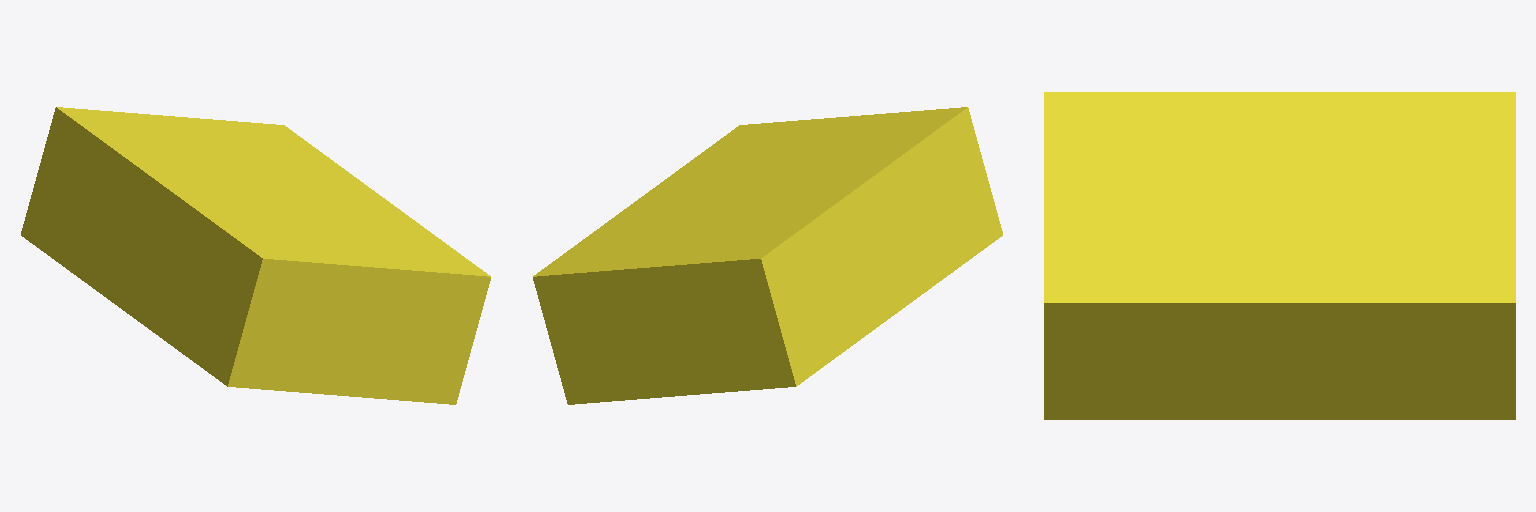
robot.urdf — nested poses:
<?xml version="1.0"?>
<robot name="nested poses" xmlns:xacro="http://ros.org/wiki/xacro">
  <link name="base_link">
  </link>
  <link name="fixed link">
  </link>
  <joint name="base_link_fixed link_joint" type="fixed">
    <parent link="base_link"/>
    <child link="fixed link"/>
    <origin xyz="-0.2 0 0" rpy="0 1.570796 1.570796"/>
  </joint>
  <joint name="slider" type="prismatic">
    <parent link="base_link"/>
    <child link="slider link"/>
    <axis xyz="0 1 0"/>
    <origin xyz="-0.1 0.1 0" rpy="0 1.570796 1.570796"/>
    <limit effort="10" lower="-0.1" upper="0.1" velocity="10"/>
  </joint>
  <link name="slider link">
  </link>
  <joint name="hinge" type="continuous">
    <parent link="base_link"/>
    <child link="hinge link"/>
    <axis xyz="0.955336 -0.29552 0"/>
    <limit effort="10" velocity="10"/>
    <origin xyz="-0.12 0.03 -0.01" rpy="1.570796 1.270796 3.141593"/>
  </joint>
  <link name="hinge link">
    <visual>
      <origin xyz="0.014776 0.047767 0.01" rpy="0 0 0"/>
      <geometry>
        <box size="0.01 0.02 0.03"/>
      </geometry>
    </visual>
    <collision>
      <origin xyz="0.014776 0.047767 0.01" rpy="0 0 0"/>
      <geometry>
        <box size="0.01 0.02 0.03"/>
      </geometry>
    </collision>
  </link>
  <link name="ts_emitter">
  </link>
  <joint name="base_link_ts_emitter_joint" type="fixed">
    <parent link="base_link"/>
    <child link="ts_emitter"/>
    <origin xyz="0 0 0" rpy="0 0 0"/>
  </joint>
</robot>

--- What the picture shows (computed from the rendered views, not written in the file) ---
3 views of the same robot in one strip: view 1: azimuth 30°, elevation 25°; view 2: azimuth 150°, elevation 25°; view 3: azimuth 270°, elevation 25° (orthographic).
Model nested poses with 5 links and 4 joints (1 continuous, 1 prismatic, 2 fixed), rooted at base_link, posed all joints at 0.
Visible links, largest first — view 1: hinge link; view 2: hinge link; view 3: hinge link.
Boxes of the visible links, x1=… form: hinge link: x1=21, y1=107, x2=490, y2=404; hinge link: x1=533, y1=107, x2=1002, y2=404; hinge link: x1=1044, y1=92, x2=1515, y2=419.
Size in the robot's own frame: 0.0221 by 0.03 by 0.0155 metres.
Geometry: primitives only (box / cylinder / sphere), no mesh files.
